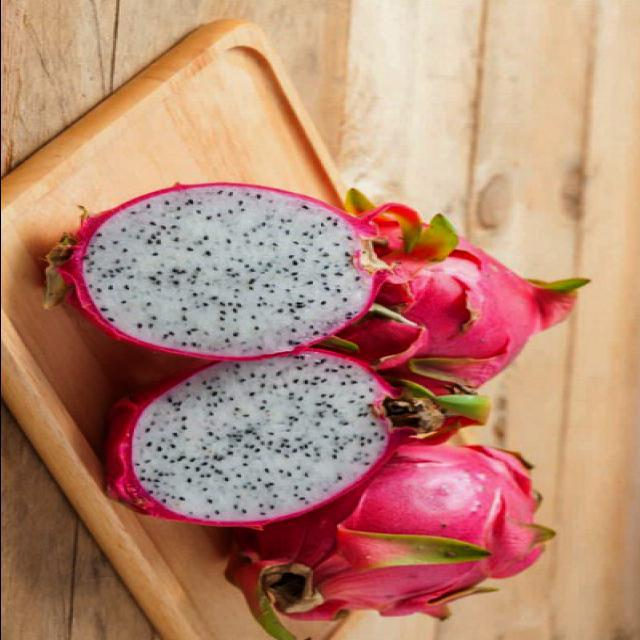trang: (225, 432, 554, 639), (59, 180, 392, 358), (346, 188, 588, 410), (104, 352, 394, 526)
